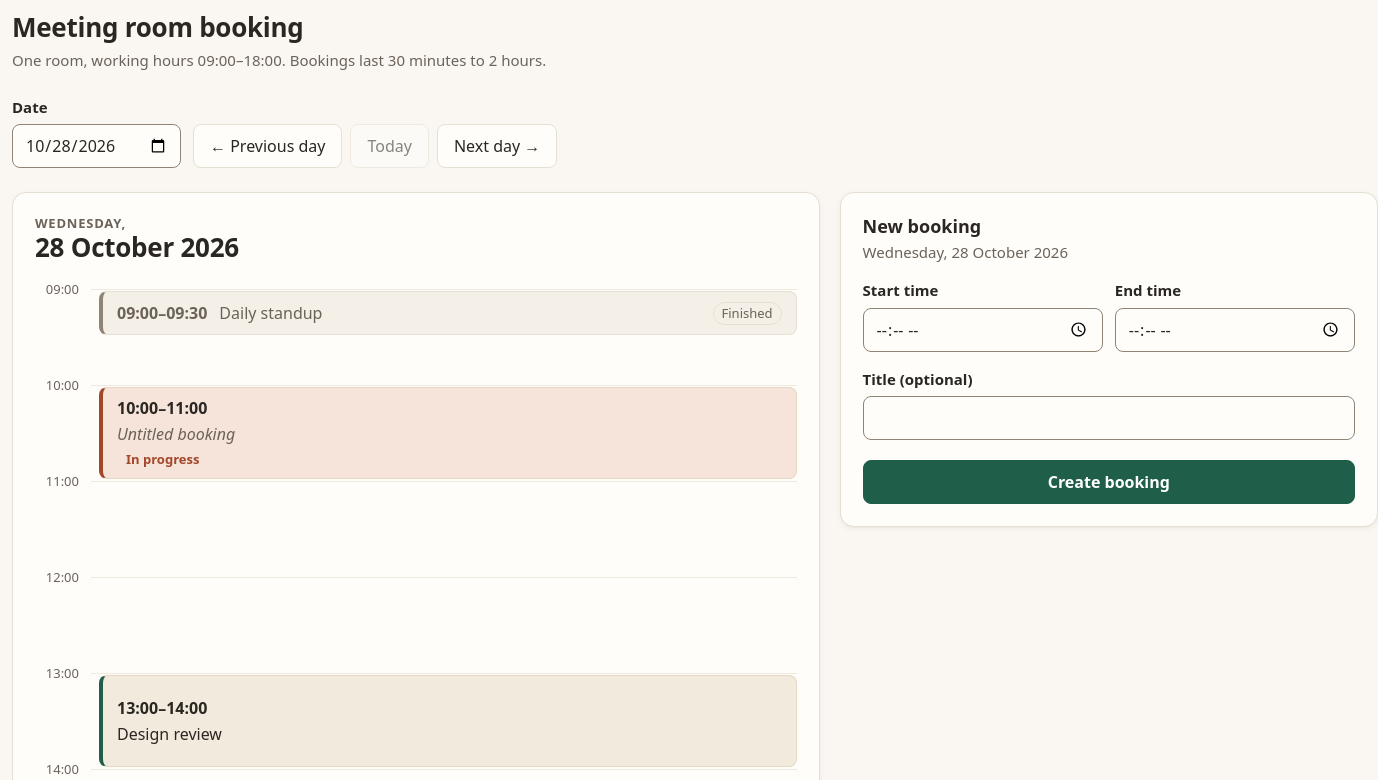
create › creates on the selected date
Check: the list is shown, box [99, 291, 797, 767]
Click the button "Next day →".
click(497, 146)  # box [437, 124, 557, 168]
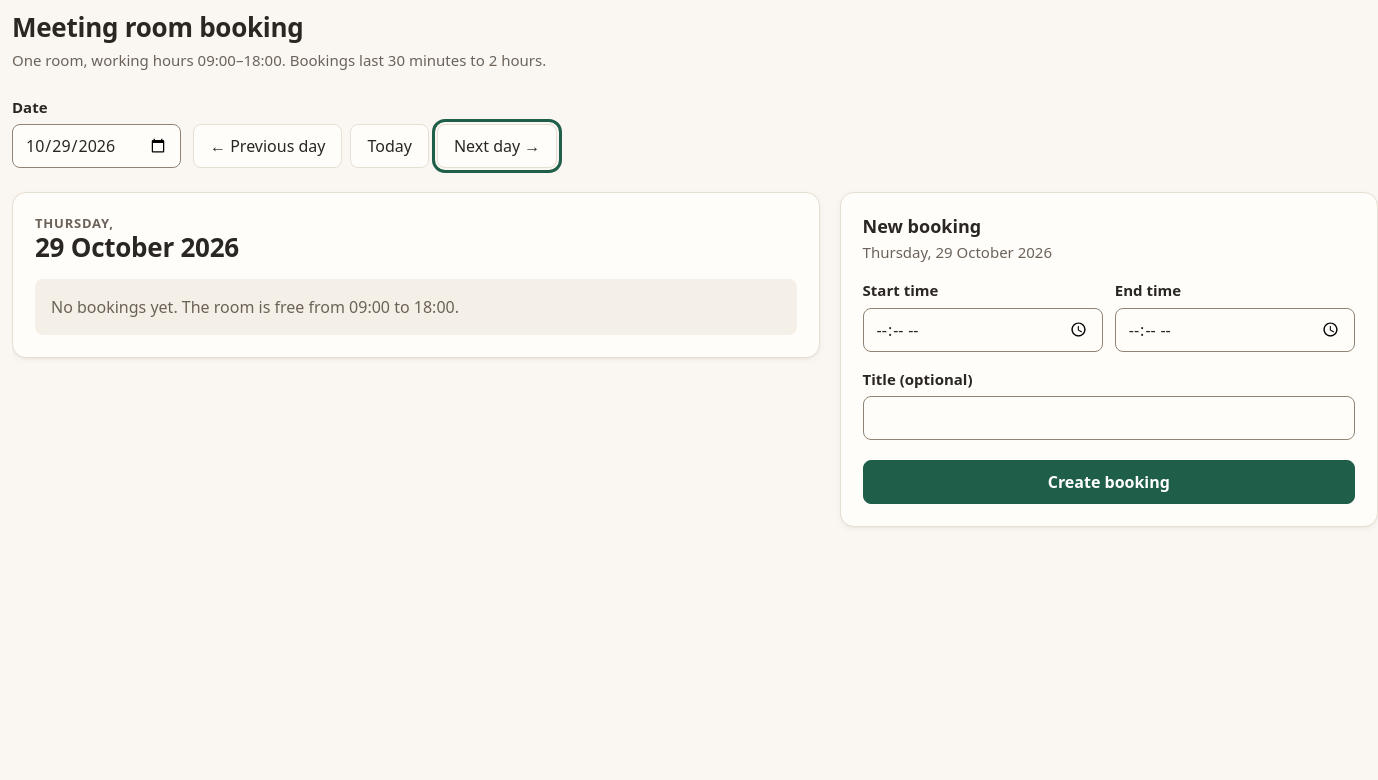
Check: the text "No bookings yet. The room is free from 09:00 to 18:00." is shown, box [35, 279, 797, 335]
Type "09:00" into the time field labelled "Start time".
click(983, 330); type("09:00")  # box [863, 308, 1103, 352]
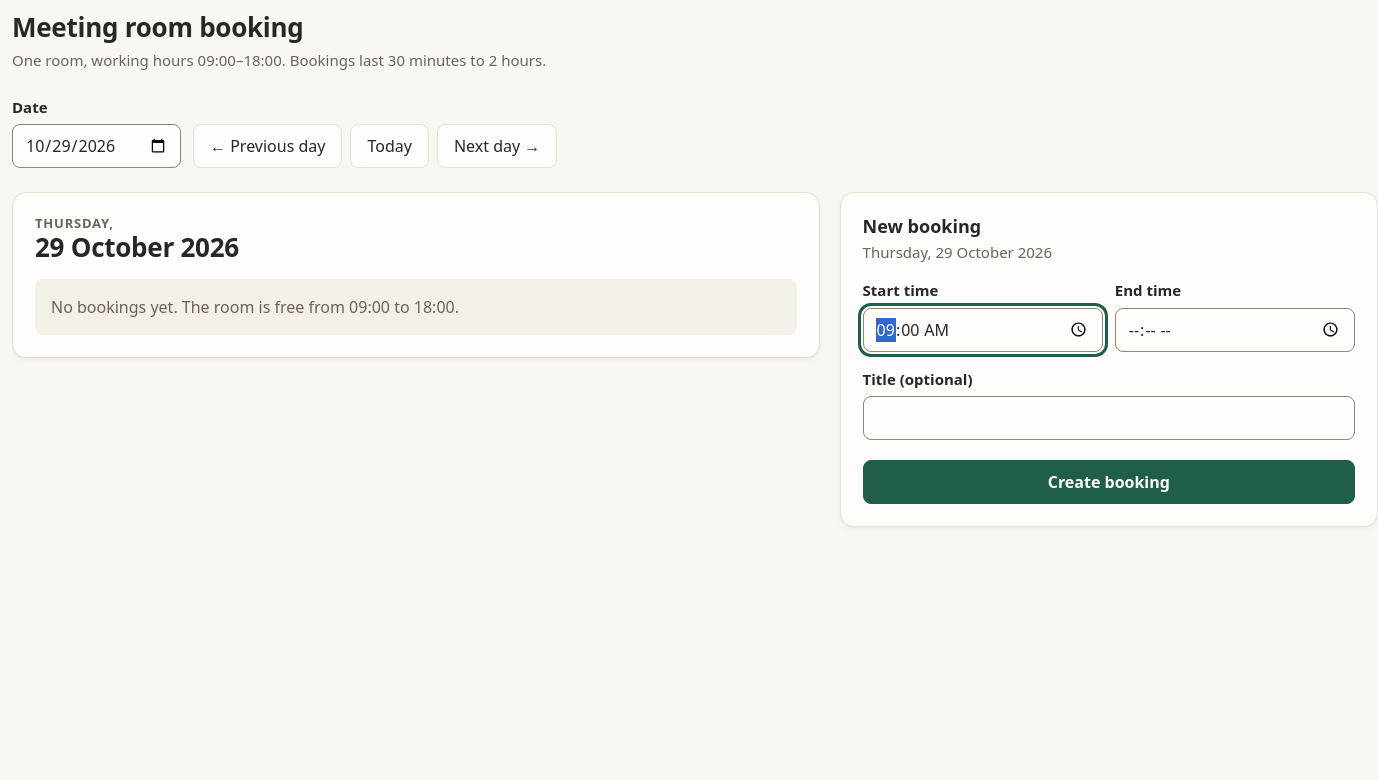
Type "10:00" into the time field labelled "End time".
click(1235, 330); type("10:00")  # box [1115, 308, 1355, 352]
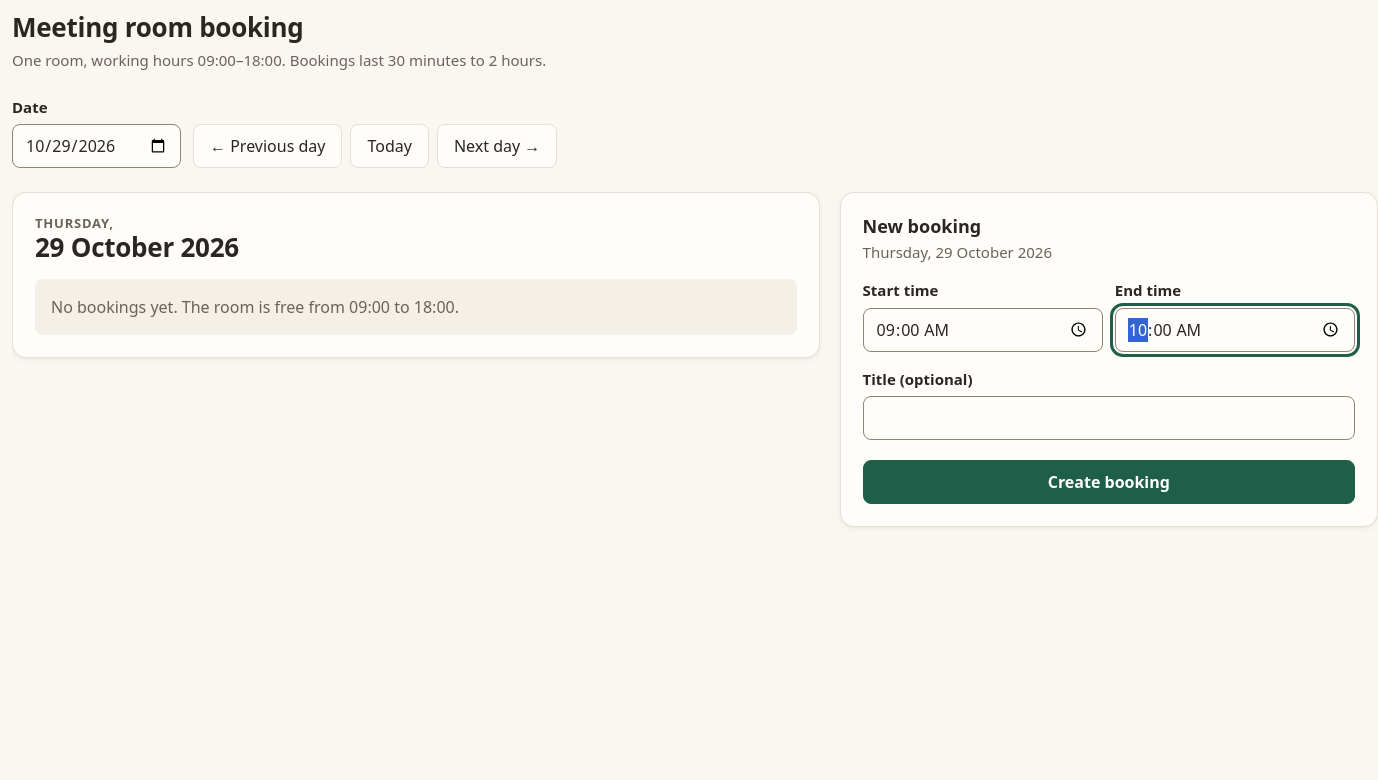
Press Tab
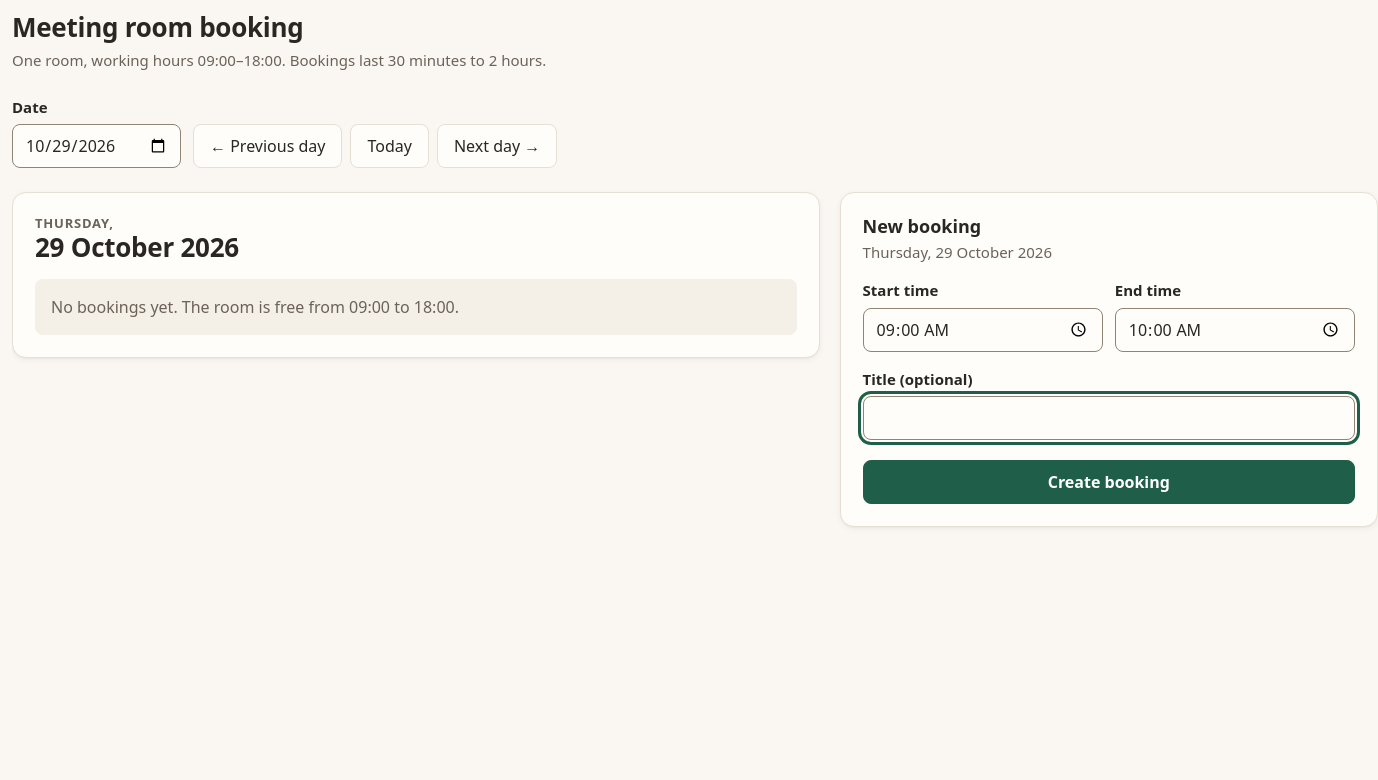
Click the button "Create booking".
click(1109, 482)  # box [863, 460, 1355, 504]
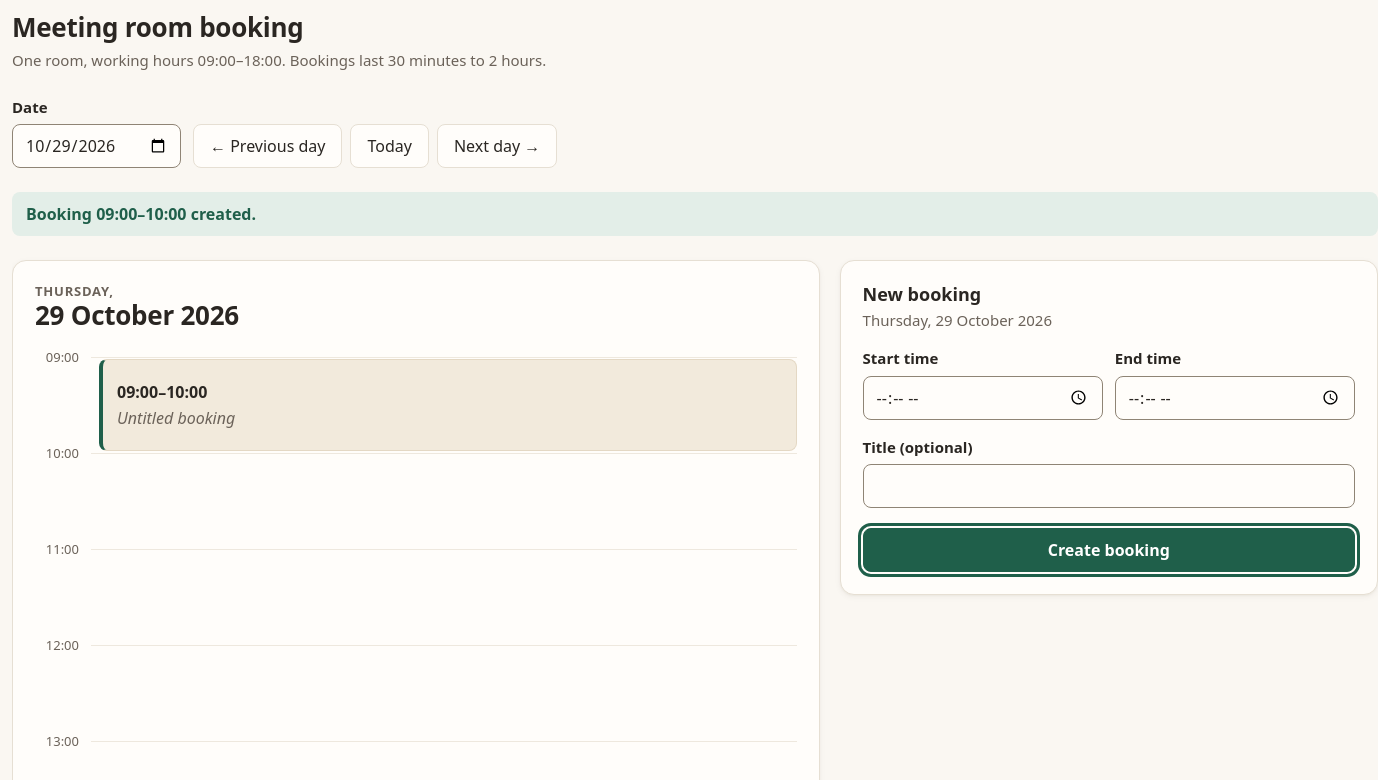
Check: the text "Booking 09:00–10:00 created." is shown, box [12, 192, 1377, 236]
